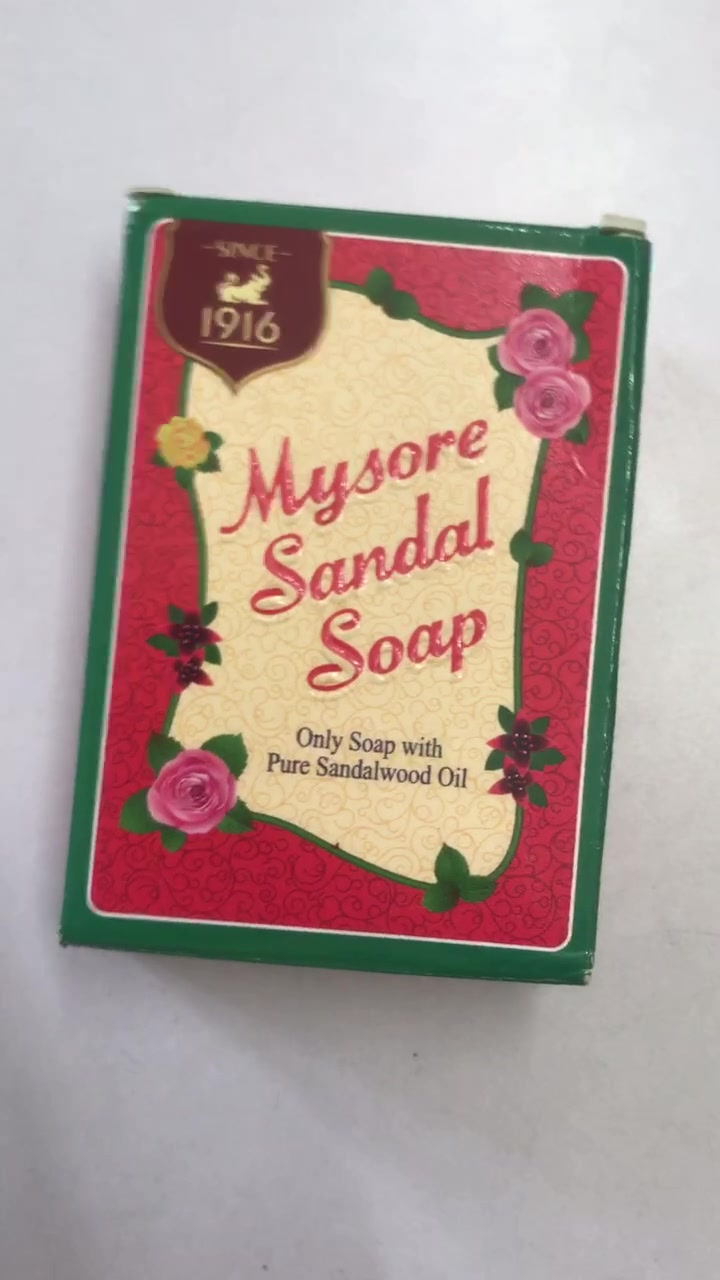mysore sandal soap: (62, 191, 659, 978)
